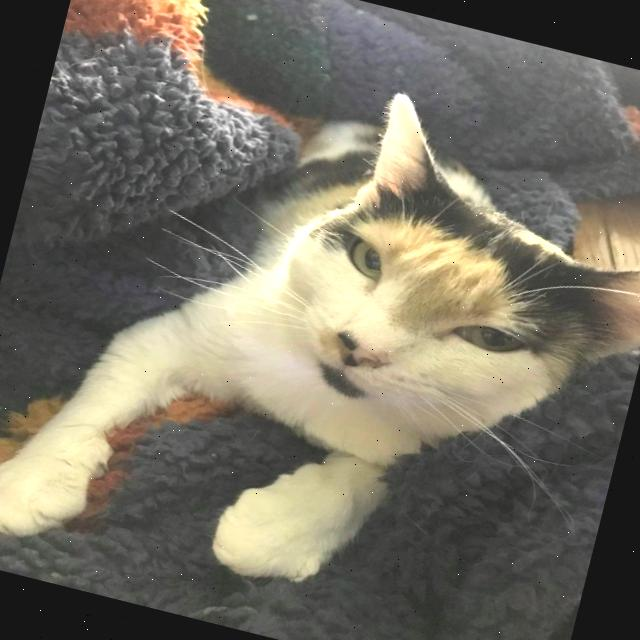calico_cat: (221, 64, 640, 499)
